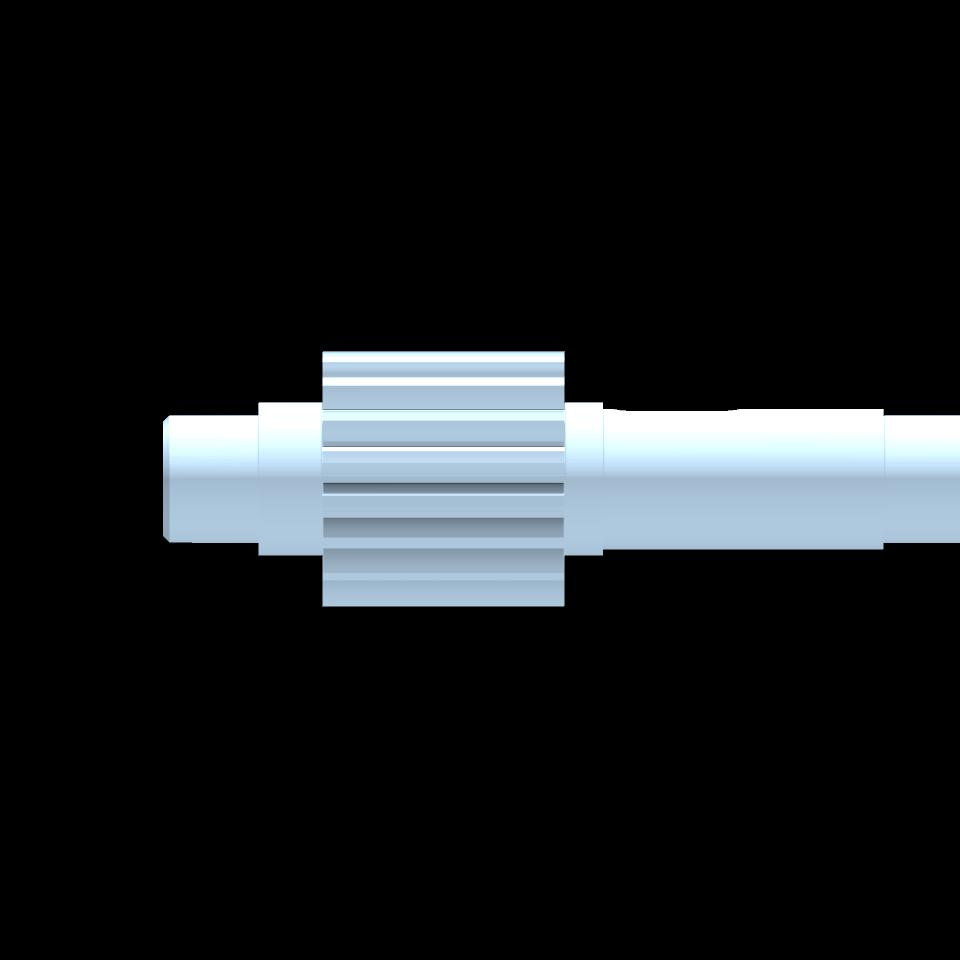Straight: (323, 351, 565, 606)
